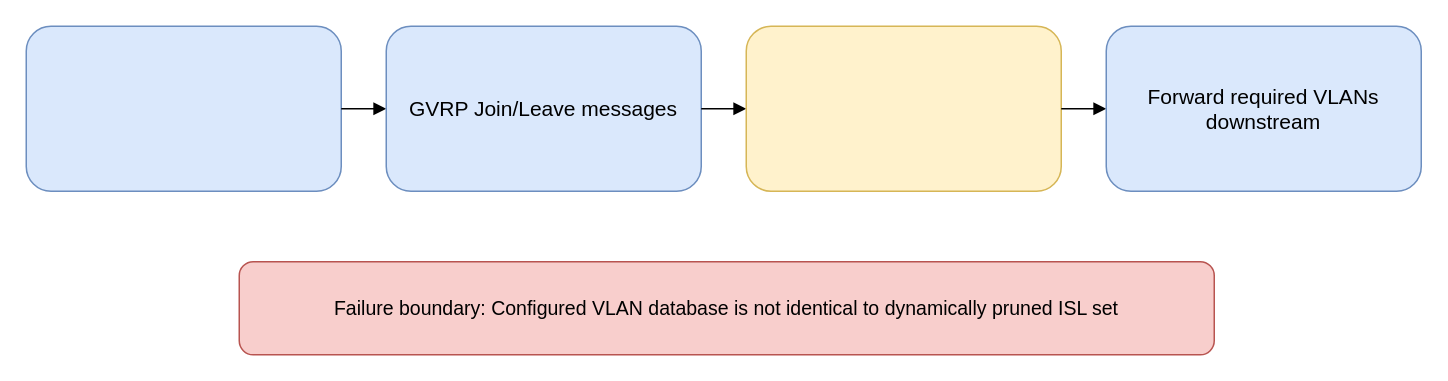
The diagram is 1448 pixels wide and 381 high, and some of its shapes have lost their labels. The centre of each missing label's shape, as x and y in pixels:
"ISL active-VLAN pruning state" belongs at pixel 903 108.
"VLAN active on switch" belongs at pixel 183 108.
